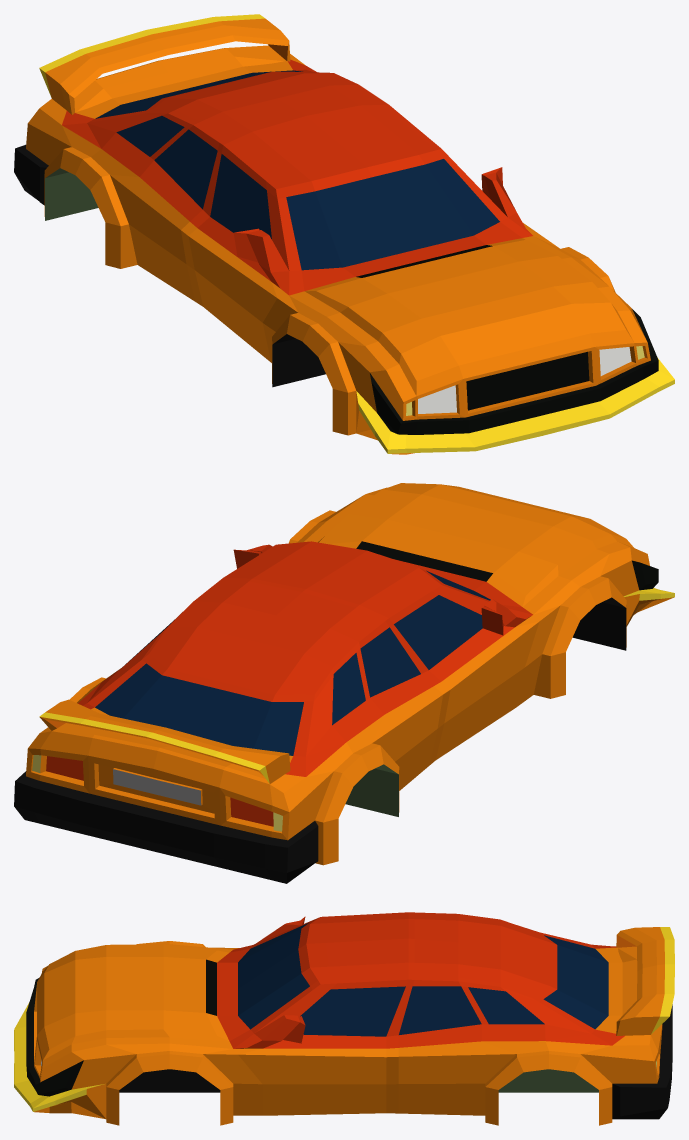
File: car_body.fbx
The picture shows the model from 3 angles, top to bottom: view 1: azimuth 30°, elevation 25°; view 2: azimuth 150°, elevation 25°; view 3: azimuth 270°, elevation 25°; orthographic projection. The views are drawn at different scales.
Parts seen in each view (by area): view 1: Car; view 2: Car; view 3: Car.
Part boxes in pixels (x1,y1,x2,y2): Car: (14, 14, 674, 454); Car: (14, 483, 674, 883); Car: (14, 912, 674, 1125).
Bounding box in the file's own units: 448 × 223 × 1048.
